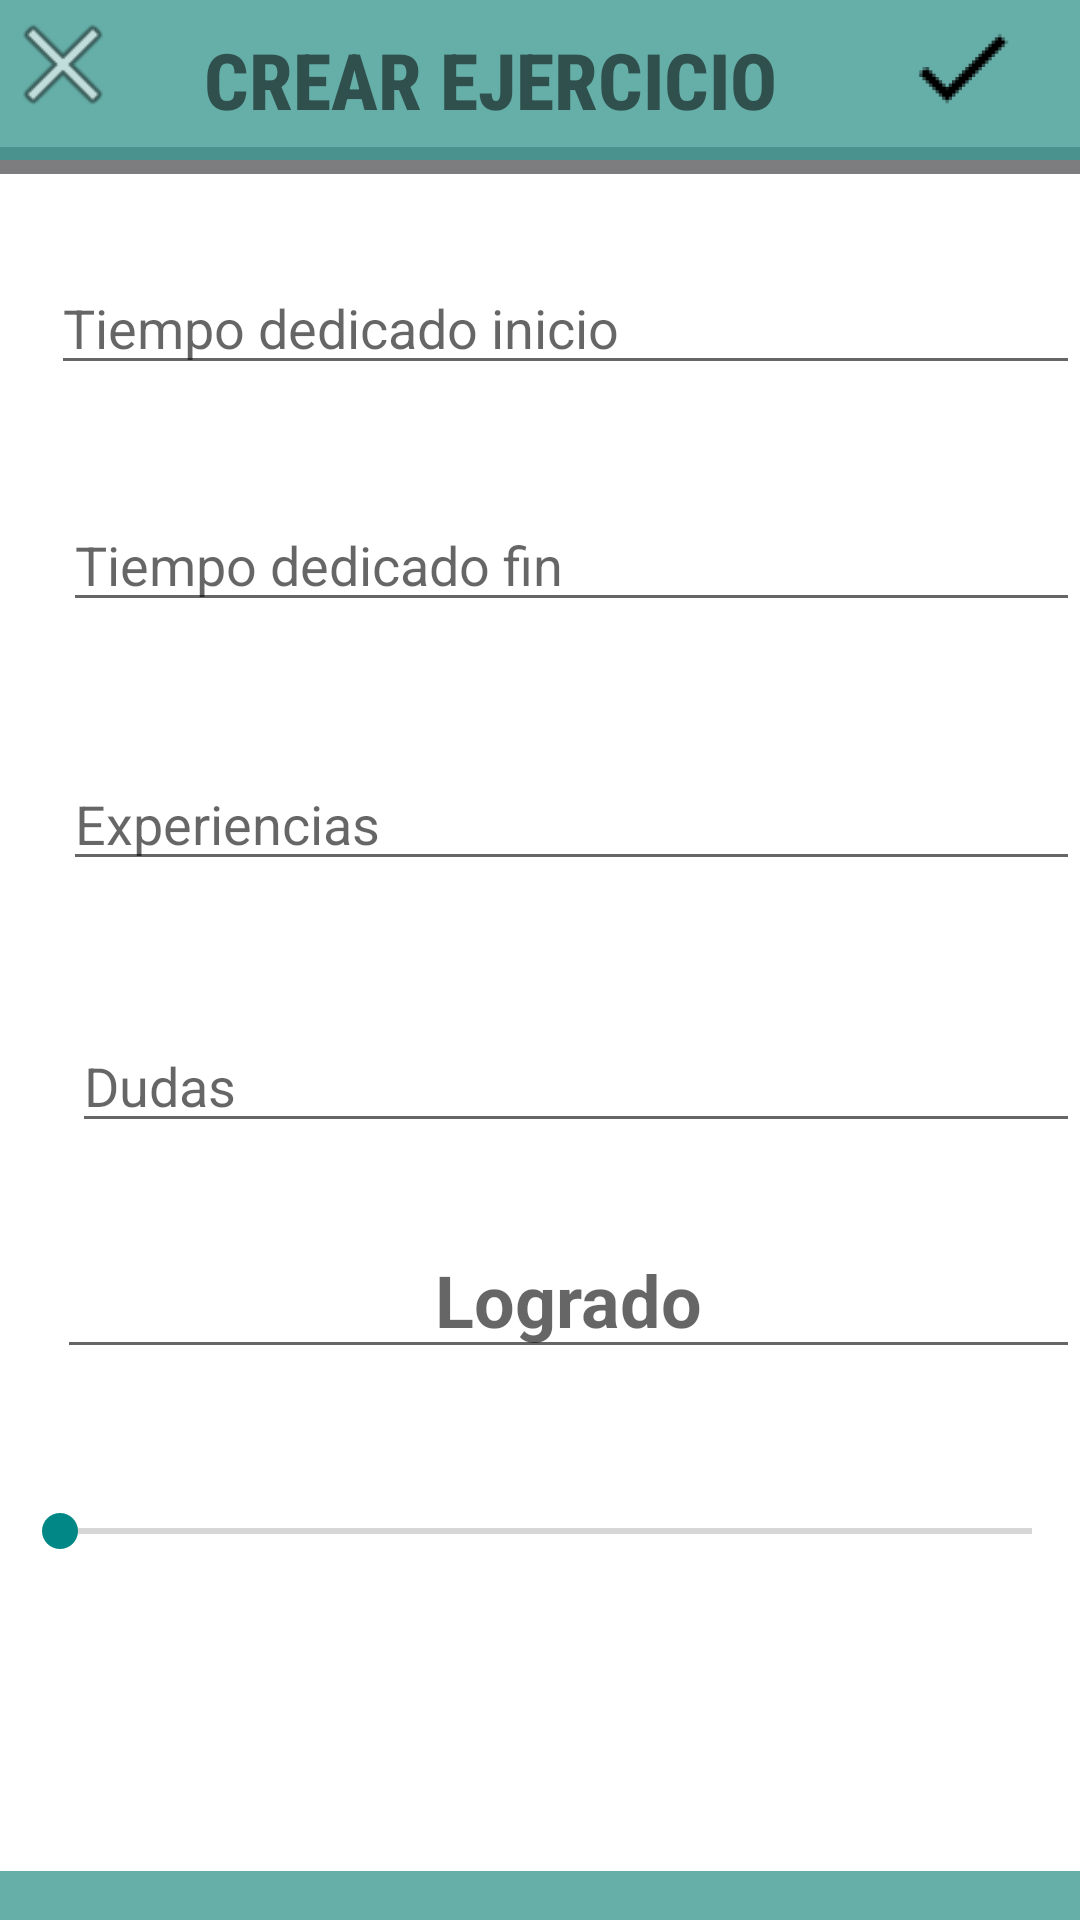

Locate icon controls on the screen. Image size 1080×1920, boxes as (x1, y1, x2, y2).
close clear cancel: (24, 25, 102, 104)
